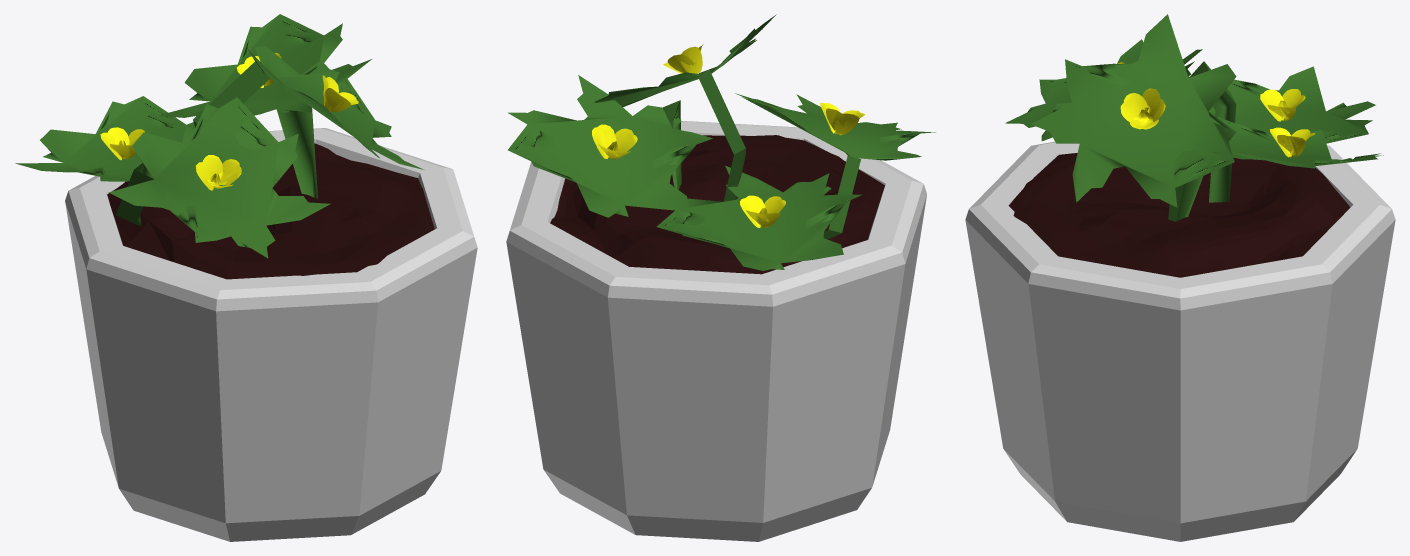
The model's file is mexican poppy.glb.
3 renders of one model, left to right at view 1: azimuth 30°, elevation 25°; view 2: azimuth 150°, elevation 25°; view 3: azimuth 270°, elevation 25°, orthographic.
Parts seen in each view (by area): view 1: mexican poppy; view 2: mexican poppy; view 3: mexican poppy.
Boxes of the visible parts, x1,y1,x2,y2 form: mexican poppy: (15, 14, 477, 541); mexican poppy: (506, 14, 935, 541); mexican poppy: (965, 14, 1395, 541).
Size of the model in its own units: 1.41 by 1.63 by 1.39.
